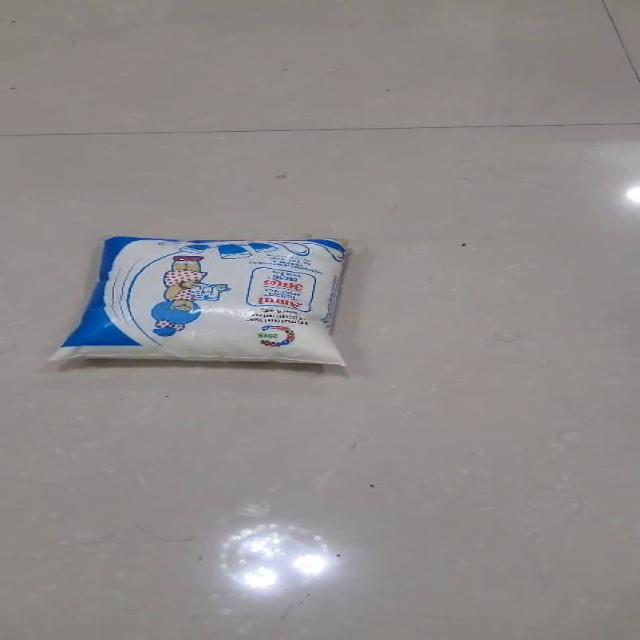plastic: (48, 234, 351, 367)
